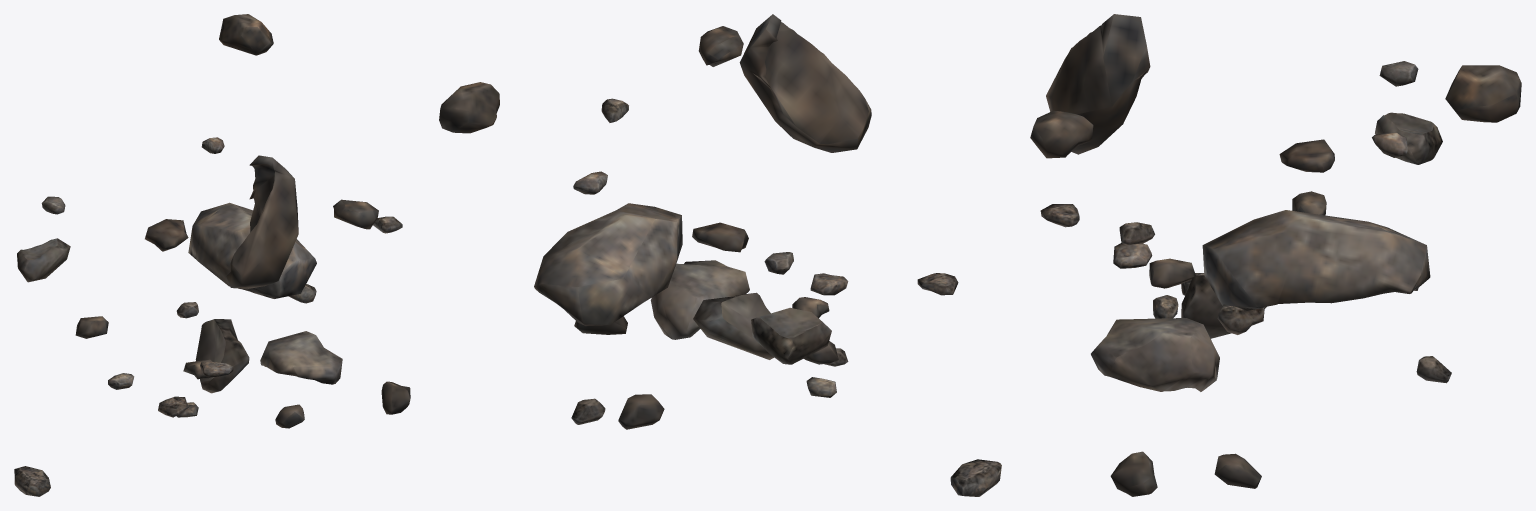
The picture shows the model from 3 angles, left to right: view 1: azimuth 30°, elevation 25°; view 2: azimuth 150°, elevation 25°; view 3: azimuth 270°, elevation 25°; orthographic projection. The views are drawn at different scales.
Parts seen in each view (by area): view 1: Stone_02_Small, Detail_Stone_02_b, Detail_Stone_03_b, Detail_Stone_01_a, Stone_10_Small, Detail_Stone_01_b, Stone_13_Small, Stone_06_Small, Detail_Stone_02_a, Stone_09_Small, Stone_05_Small, Stone_15_Small (+2 smaller); view 2: Detail_Stone_02_b, Stone_02_Small, Detail_Stone_03_b, Detail_Stone_01_b, Detail_Stone_01_a, Stone_10_Small, Detail_Stone_02_a, Stone_06_Small, Stone_13_Small, Stone_15_Small, Detail_Stone_05_a, Detail_Stone_05_b (+1 smaller); view 3: Detail_Stone_02_b, Stone_02_Small, Detail_Stone_03_b, Stone_10_Small, Stone_06_Small, Detail_Stone_01_b, Detail_Stone_01_a, Stone_09_Small, Stone_13_Small, Stone_15_Small, Stone_12_Small, Detail_Stone_03_a (+8 smaller).
Boxes of the visible parts, box(x1,y1,x2,y2) form: Stone_02_Small: box(226, 155, 298, 288); Detail_Stone_02_b: box(188, 202, 316, 298); Detail_Stone_03_b: box(260, 331, 342, 384); Detail_Stone_01_a: box(195, 319, 249, 393); Stone_10_Small: box(219, 14, 273, 55); Detail_Stone_01_b: box(17, 238, 70, 282); Stone_13_Small: box(145, 219, 188, 251); Stone_06_Small: box(333, 199, 378, 229); Detail_Stone_02_a: box(14, 466, 50, 496); Stone_09_Small: box(381, 381, 410, 414); Stone_05_Small: box(75, 316, 108, 338); Stone_15_Small: box(275, 404, 304, 428); Detail_Stone_02_b: box(534, 203, 682, 325); Stone_02_Small: box(739, 14, 871, 152); Detail_Stone_03_b: box(650, 260, 749, 339); Detail_Stone_01_b: box(751, 307, 831, 364); Detail_Stone_01_a: box(693, 292, 773, 359); Stone_10_Small: box(439, 82, 499, 133); Detail_Stone_02_a: box(950, 459, 1001, 496); Stone_06_Small: box(698, 26, 743, 66); Stone_13_Small: box(692, 222, 748, 252); Stone_15_Small: box(618, 394, 664, 429); Detail_Stone_05_a: box(917, 273, 958, 295); Detail_Stone_05_b: box(810, 273, 848, 295); Detail_Stone_02_b: box(1202, 210, 1430, 310); Stone_02_Small: box(1046, 14, 1150, 154); Detail_Stone_03_b: box(1091, 318, 1219, 391); Stone_10_Small: box(1445, 65, 1521, 122); Stone_06_Small: box(1030, 110, 1093, 158); Detail_Stone_01_b: box(1375, 112, 1442, 164); Detail_Stone_01_a: box(1181, 275, 1266, 338); Stone_09_Small: box(1110, 451, 1157, 496); Stone_13_Small: box(1279, 139, 1334, 172); Stone_15_Small: box(1214, 453, 1261, 488); Stone_12_Small: box(1149, 258, 1195, 288); Detail_Stone_03_a: box(1217, 304, 1264, 334).
Bounding box in the file's own units: 208 × 179 × 178.
